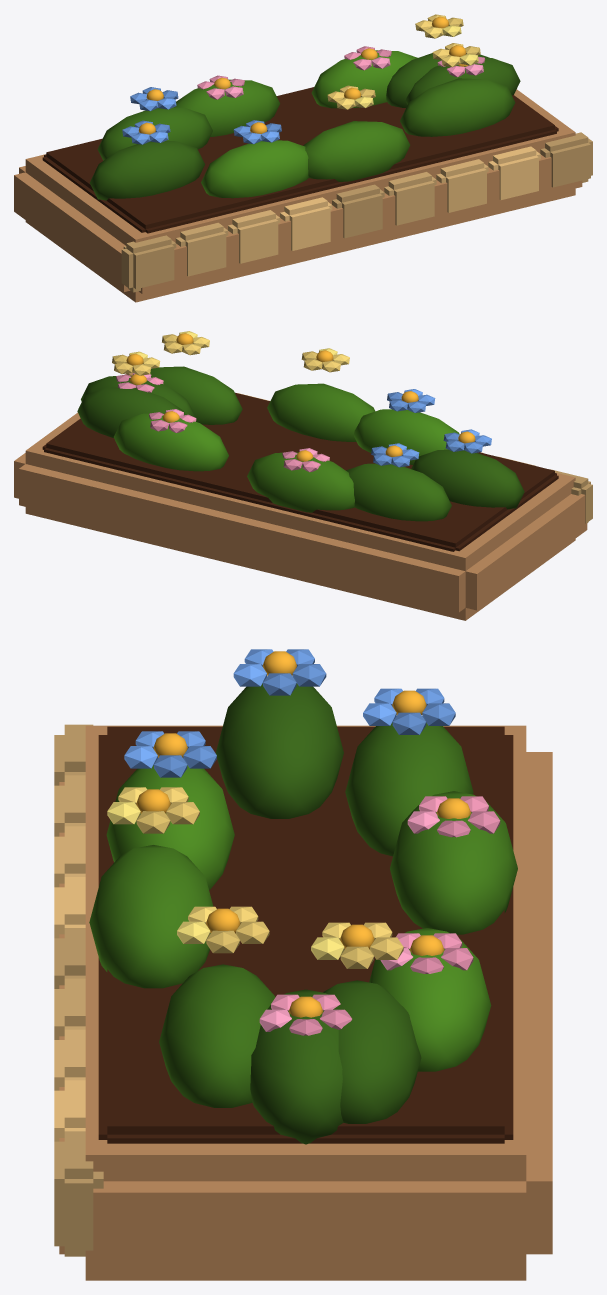
File: flower-bed.glb
3 renders of one model, top to bottom at view 1: azimuth 30°, elevation 25°; view 2: azimuth 150°, elevation 25°; view 3: azimuth 270°, elevation 25°, orthographic. The views are drawn at different scales.
Visible parts, largest first — view 1: flower-bed; view 2: flower-bed; view 3: flower-bed.
Boxes of the visible parts, x1,y1,x2,y2 form: flower-bed: (14,14,592,302); flower-bed: (14,331,592,620); flower-bed: (54,649,552,1280).
Bounding box in the file's own units: 2.15 × 0.64 × 1.
